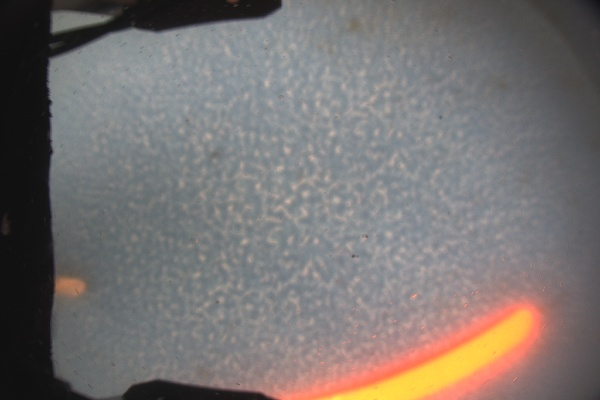path: (309, 310, 530, 398)
